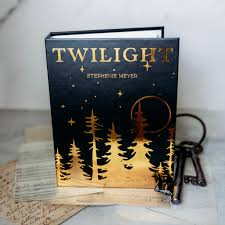book: (44, 26, 180, 208)
